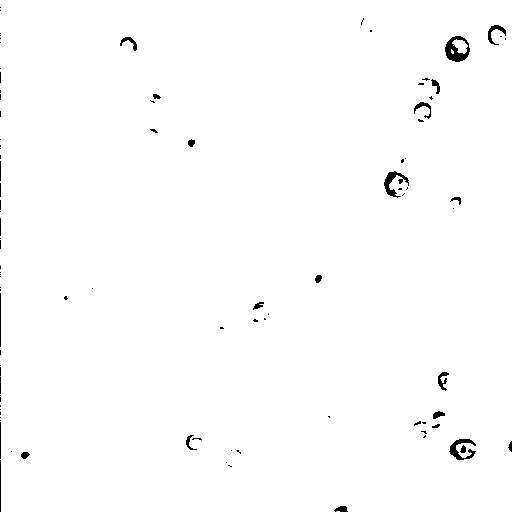micro-algae: (148, 1, 251, 58), (365, 58, 426, 127), (423, 457, 488, 511), (18, 241, 73, 297), (364, 4, 409, 50), (338, 64, 379, 107), (427, 60, 465, 104), (12, 437, 44, 474), (388, 144, 420, 178), (131, 13, 161, 45), (489, 415, 511, 458), (404, 420, 433, 449), (382, 170, 411, 199), (443, 34, 471, 64), (303, 264, 334, 291), (139, 112, 171, 136), (448, 437, 477, 463), (415, 76, 444, 102), (121, 337, 146, 365), (177, 129, 203, 155), (360, 12, 383, 40), (248, 301, 274, 324), (245, 496, 281, 511), (487, 22, 508, 47), (223, 447, 246, 469), (52, 288, 73, 312), (91, 271, 113, 293), (117, 34, 137, 55), (412, 101, 432, 122), (427, 409, 447, 429), (437, 370, 456, 391), (1, 78, 13, 110), (187, 431, 205, 451), (446, 195, 463, 211), (1, 174, 11, 201), (331, 501, 353, 511), (506, 437, 511, 453)
